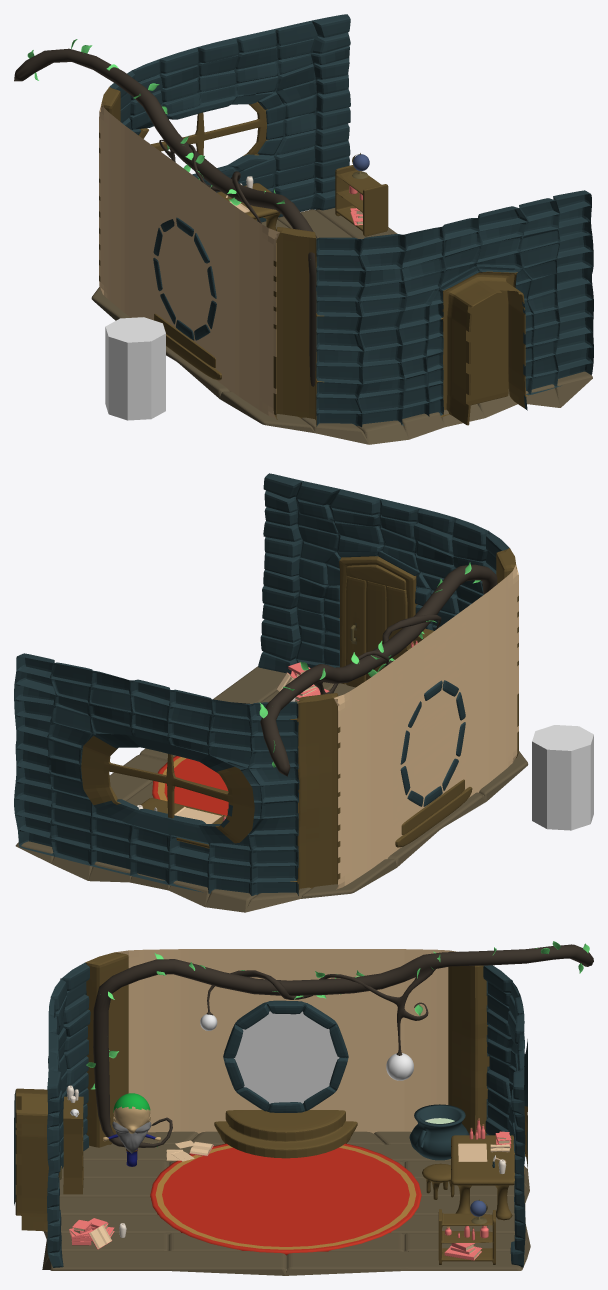
File: environmentModel.fbx
The picture shows the model from 3 angles, top to bottom: view 1: azimuth 30°, elevation 25°; view 2: azimuth 150°, elevation 25°; view 3: azimuth 270°, elevation 25°; orthographic projection. The views are drawn at different scales.
Visible parts, largest first — view 1: Walls, Floor, Vine, WizardRef, Walls.001, Cube, PortalRim, Stairs, Table; view 2: Walls, Floor, WizardRef, Vine, Walls.001, Circle.002, PortalRim, Stairs, Table; view 3: Walls, Floor, Circle.002, Vine, Circle, Stairs, PortalRim, Table, Cylinder.001, Bookshelf, Cube, Body (+4 smaller).
Part boxes in pixels (x1,y1,x2,y2): Walls: [99, 14, 593, 427]; Floor: [91, 208, 592, 444]; Vine: [14, 48, 316, 386]; WizardRef: [105, 317, 165, 420]; Walls.001: [466, 290, 508, 405]; Cube: [335, 165, 388, 236]; PortalRim: [153, 217, 216, 340]; Stairs: [154, 313, 221, 380]; Table: [217, 183, 280, 230]; Walls: [14, 473, 518, 895]; Floor: [15, 666, 528, 912]; WizardRef: [532, 725, 593, 830]; Vine: [260, 564, 497, 776]; Walls.001: [346, 564, 407, 687]; Circle.002: [152, 755, 228, 815]; PortalRim: [400, 680, 465, 806]; Stairs: [395, 779, 472, 847]; Table: [140, 798, 226, 848]; Walls: [14, 949, 527, 1267]; Floor: [42, 1131, 530, 1275]; Circle.002: [150, 1143, 421, 1255]; Vine: [93, 944, 593, 1147]; Circle: [234, 1011, 339, 1103]; Stairs: [214, 1110, 357, 1158]; PortalRim: [223, 1000, 348, 1112]; Table: [451, 1135, 514, 1220]; Cylinder.001: [409, 1104, 469, 1160]; Bookshelf: [63, 1096, 83, 1194]; Cube: [438, 1209, 495, 1264]; Body: [103, 1093, 160, 1166].
Size of the model in its own units: 653 by 367 by 834.
